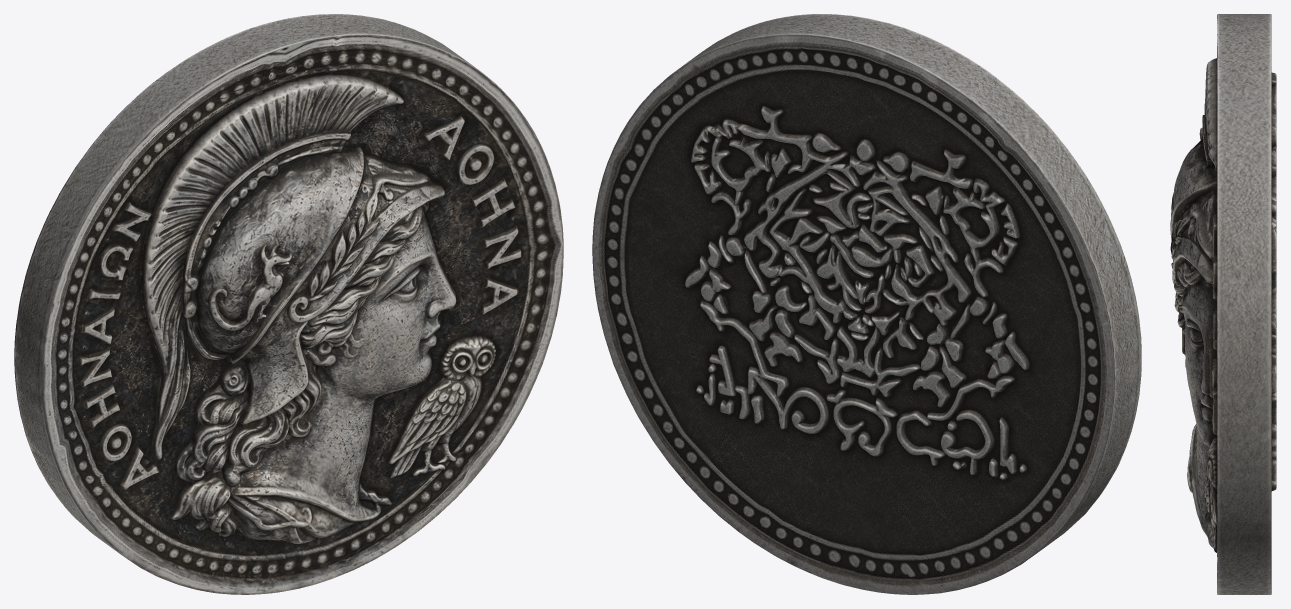
Rendered from yunontangasi-v2.glb.
3 views of the same model, side by side, from view 1: azimuth 30°, elevation 25°; view 2: azimuth 150°, elevation 25°; view 3: azimuth 270°, elevation 25° (orthographic). The views are drawn at different scales.
Bounding box in the file's own units: 1.9 × 1.9 × 0.349.
Materials: 1 (1 with a texture image).
